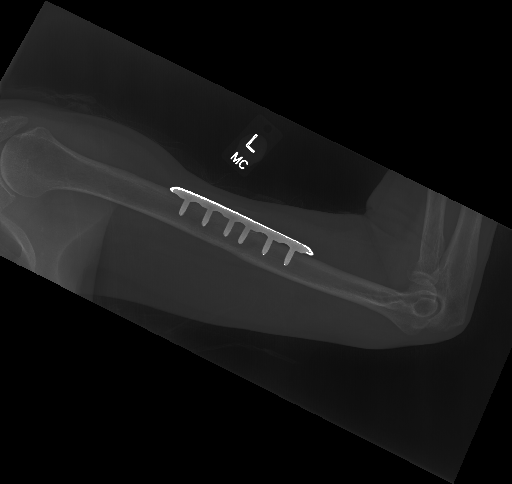implant: (166, 183, 313, 269)
